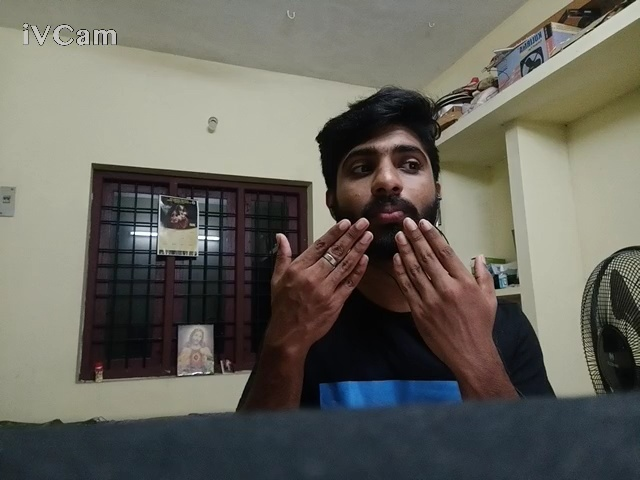Thank You: (241, 203, 517, 480)
